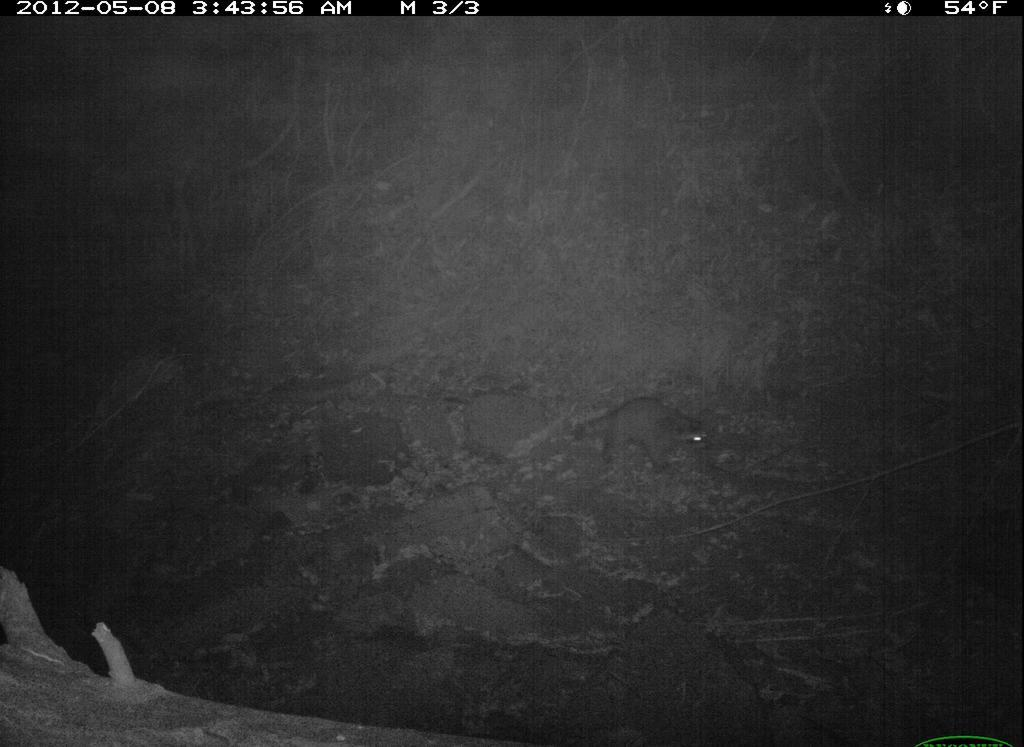raccoon: (573, 385, 717, 481)
